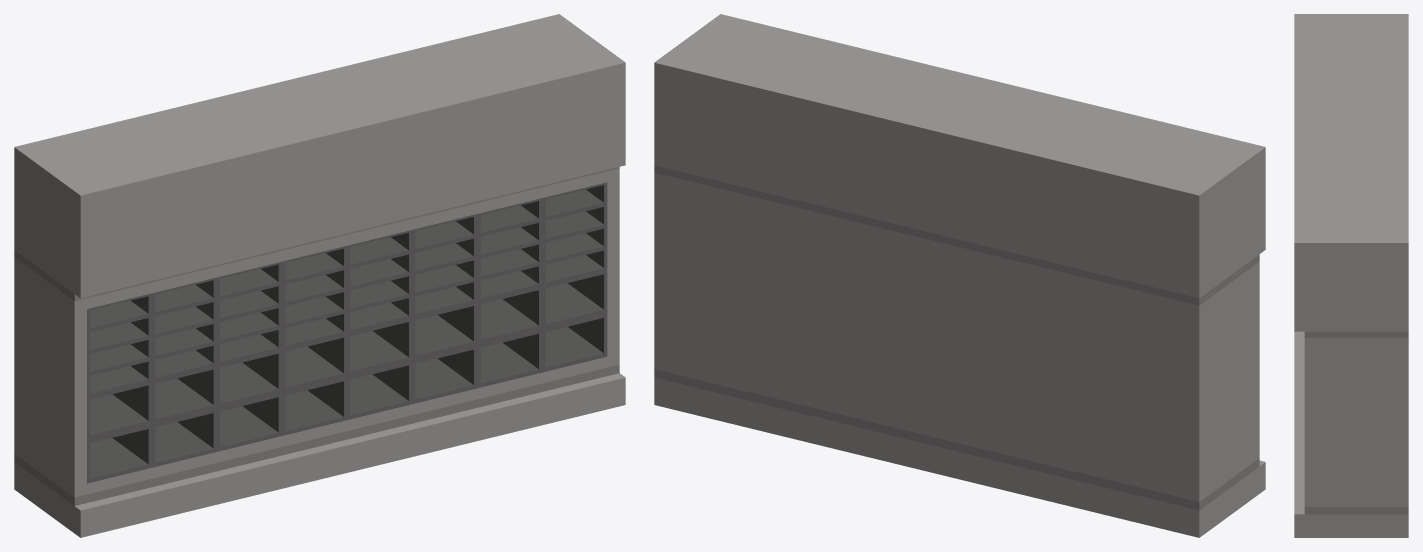
Rendered from Prop_SafeDepositBoxes_Empty_01.glb.
The picture shows the model from 3 angles, left to right: view 1: azimuth 30°, elevation 25°; view 2: azimuth 150°, elevation 25°; view 3: azimuth 270°, elevation 25°; orthographic projection. The views are drawn at different scales.
Parts seen in each view (by area): view 1: SM_Prop_SafeDepositBoxes_Empty_01; view 2: SM_Prop_SafeDepositBoxes_Empty_01; view 3: SM_Prop_SafeDepositBoxes_Empty_01.
Part boxes in pixels (x1,y1,x2,y2): SM_Prop_SafeDepositBoxes_Empty_01: (14,14,625,537); SM_Prop_SafeDepositBoxes_Empty_01: (654,14,1265,537); SM_Prop_SafeDepositBoxes_Empty_01: (1294,14,1408,537).
Bounding box in the file's own units: 5 × 3 × 1.05.
Materials: 1 (1 with a texture image).
